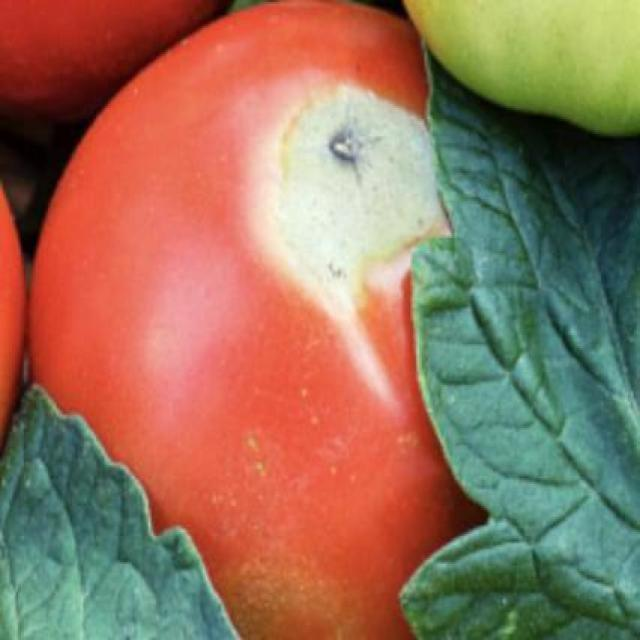Blossom End Rot Fruit: (175, 42, 299, 192)
